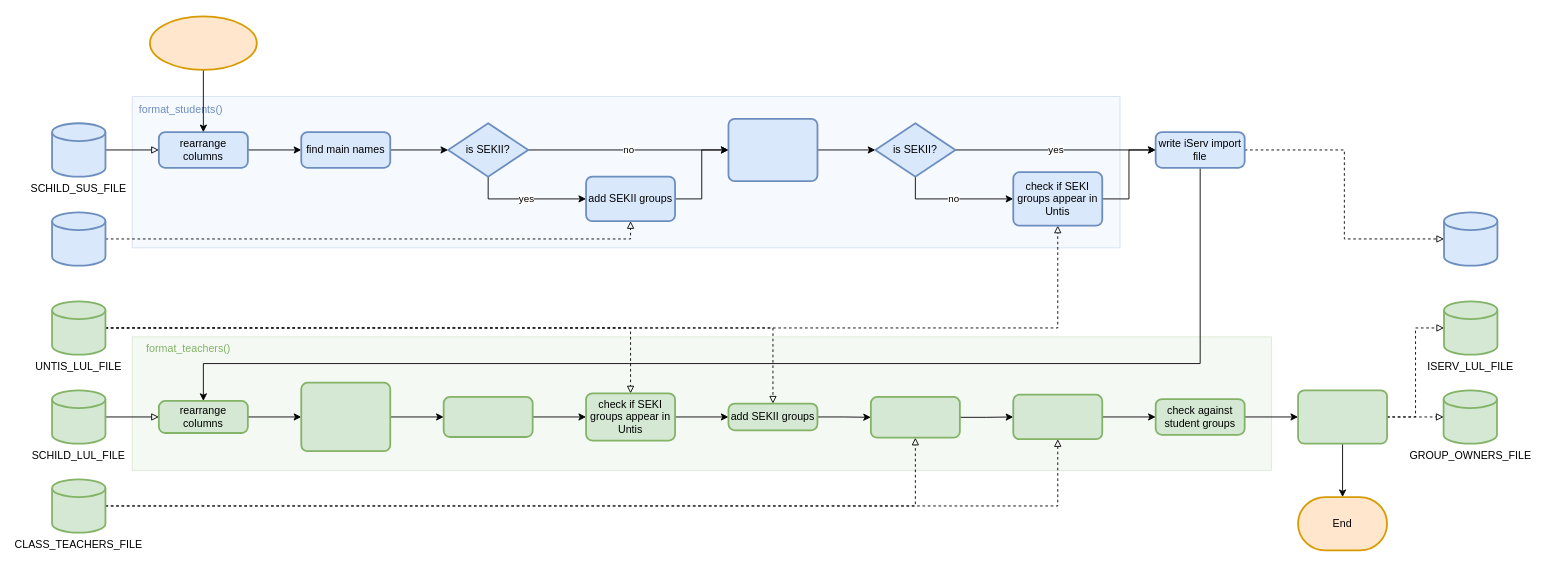
This 1547x566 diagram has some shape labels left out. Here are the shapes that lost their labels. From the top down, the centre of each, then its label:
[203,42]: Start
[772,149]: add grade exchange groups ("Austausch xy")
[78,238]: GOMSTH_SUS_FILE
[1470,238]: ISERV_SUS_FILE
[345,416]: manually map some firstnames, surnames, usernames
[487,416]: replace umlauts in usernames
[915,417]: add grade exchange groups
[1057,416]: add group owner entries
[1342,416]: write iServ import file and group owner file
